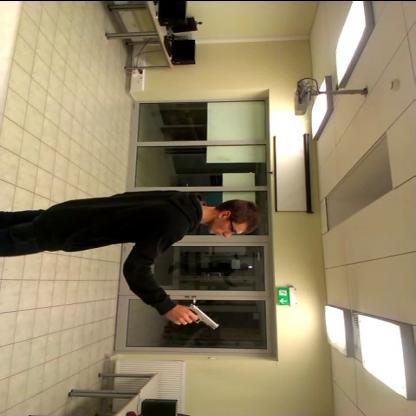Pistol: (153, 296, 225, 334)
